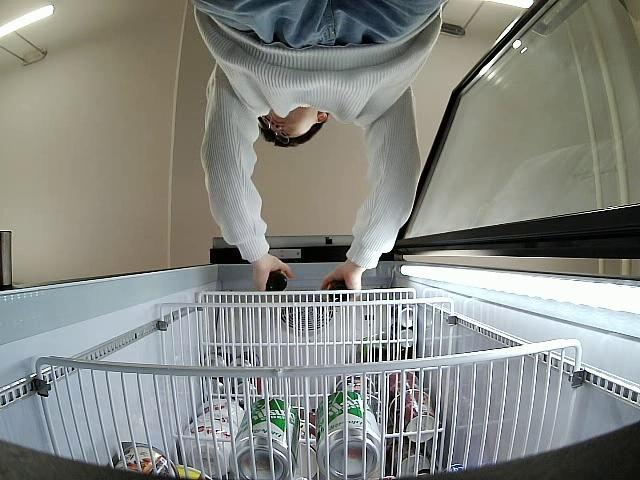00_hand: (321, 263, 364, 311), (253, 256, 293, 292)
17_vita500: (324, 278, 349, 304), (267, 274, 287, 292)
